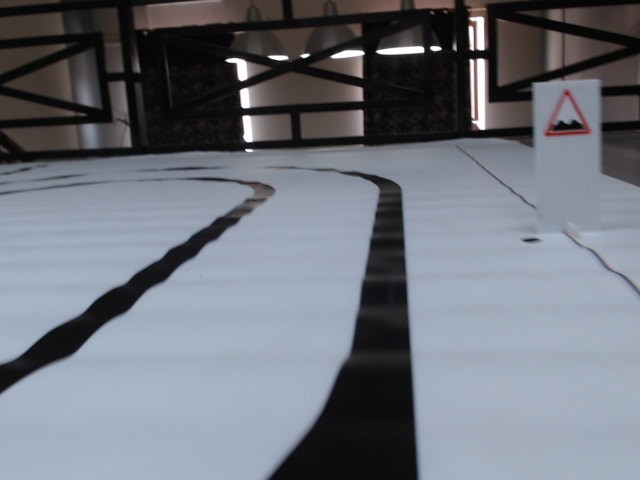Nerov: (540, 88, 593, 141)
